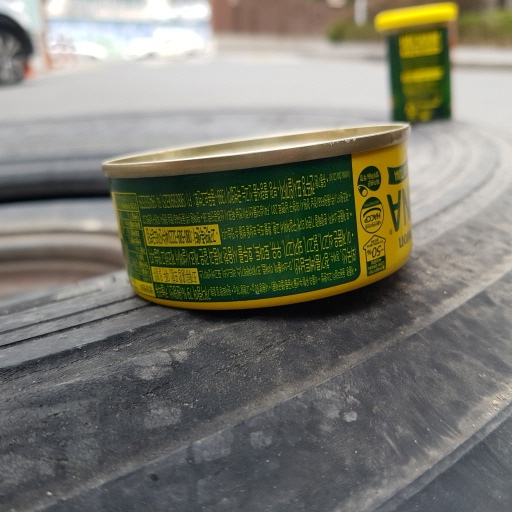Metal_1: (102, 119, 417, 312)
